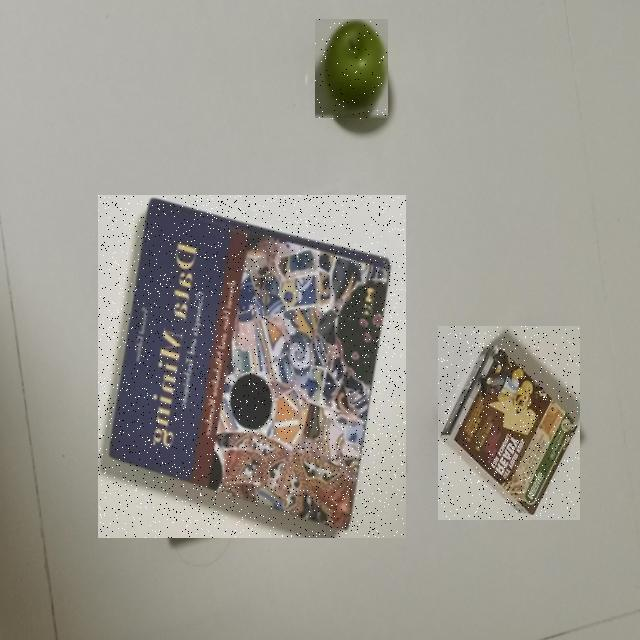Apple: (315, 20, 388, 120)
Book: (98, 195, 406, 538)
Cereal: (438, 327, 580, 521)
